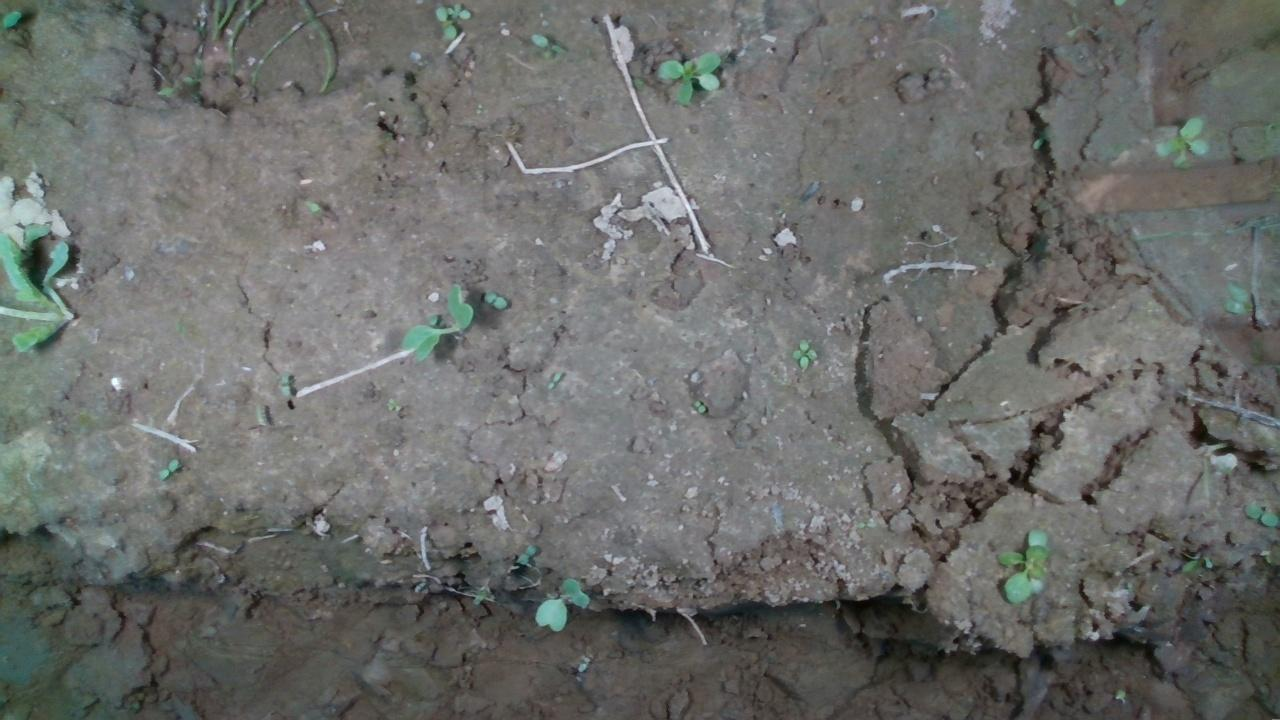weed: (652, 49, 721, 103), (786, 335, 818, 369), (480, 288, 505, 310)
